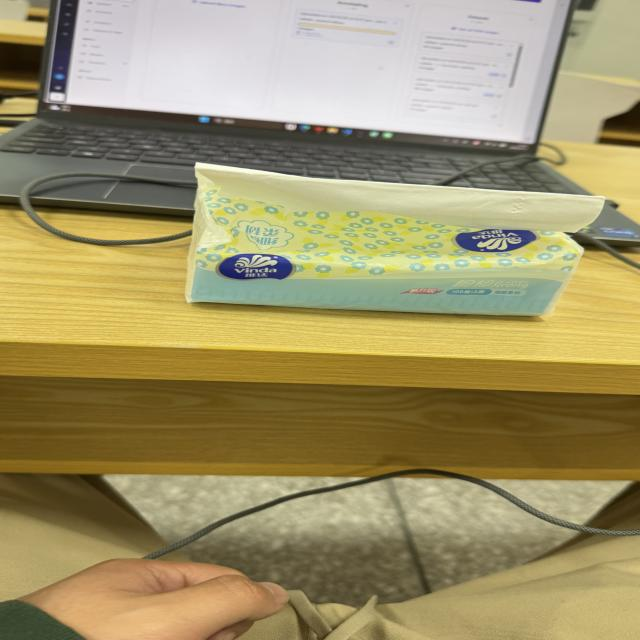tissue: (188, 165, 603, 315)
